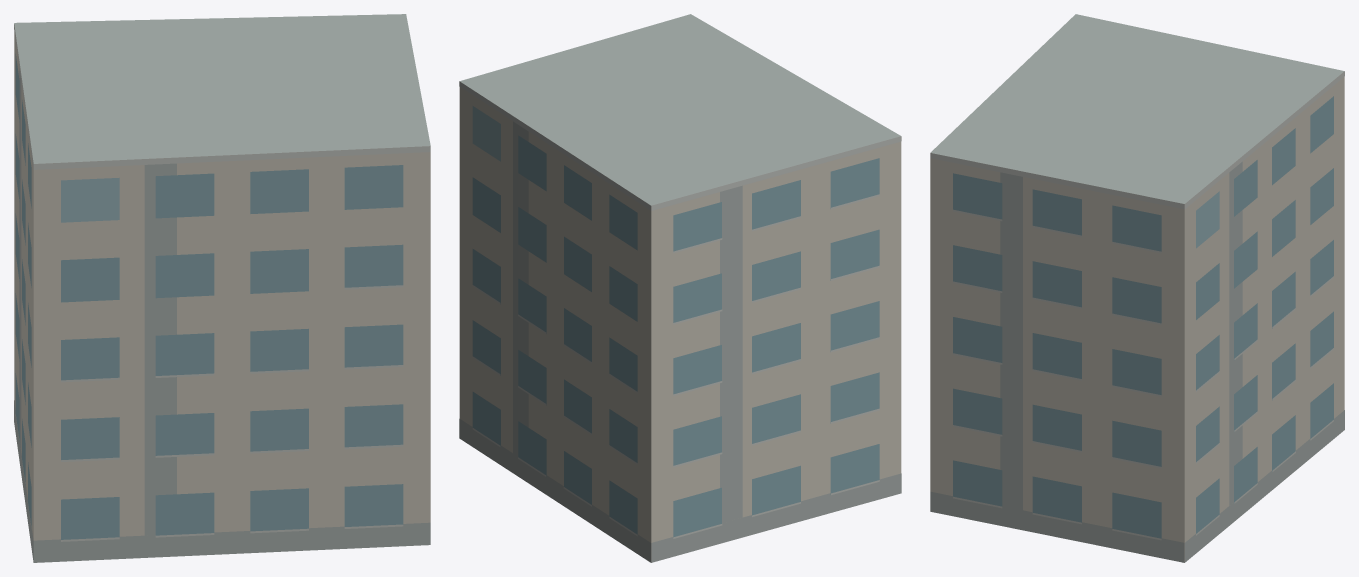
The model's file is survey-upis-32732232.glb.
The picture shows the model from 3 angles, left to right: view 1: azimuth 30°, elevation 25°; view 2: azimuth 150°, elevation 25°; view 3: azimuth 270°, elevation 25°; orthographic projection. The views are drawn at different scales.
Visible parts, largest first — view 1: survey-upis-32732232.tmp; view 2: survey-upis-32732232.tmp; view 3: survey-upis-32732232.tmp.
Boxes of the visible parts, box(x1,y1,x2,y2) form: survey-upis-32732232.tmp: box(14, 14, 430, 562); survey-upis-32732232.tmp: box(459, 14, 901, 562); survey-upis-32732232.tmp: box(930, 14, 1344, 562).
Size of the model in its own units: 18.53 by 16.3 by 17.08.
